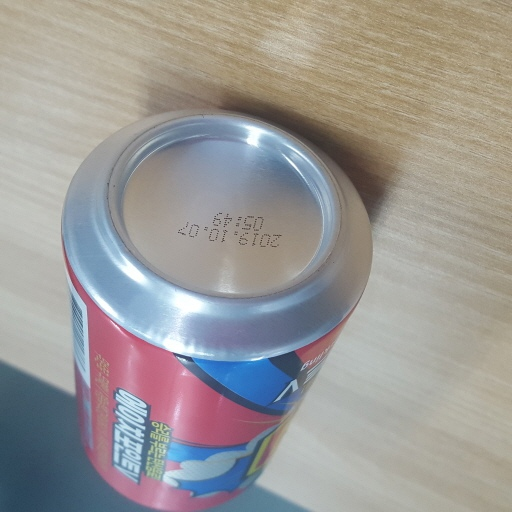Metal_0: (60, 108, 374, 512)
